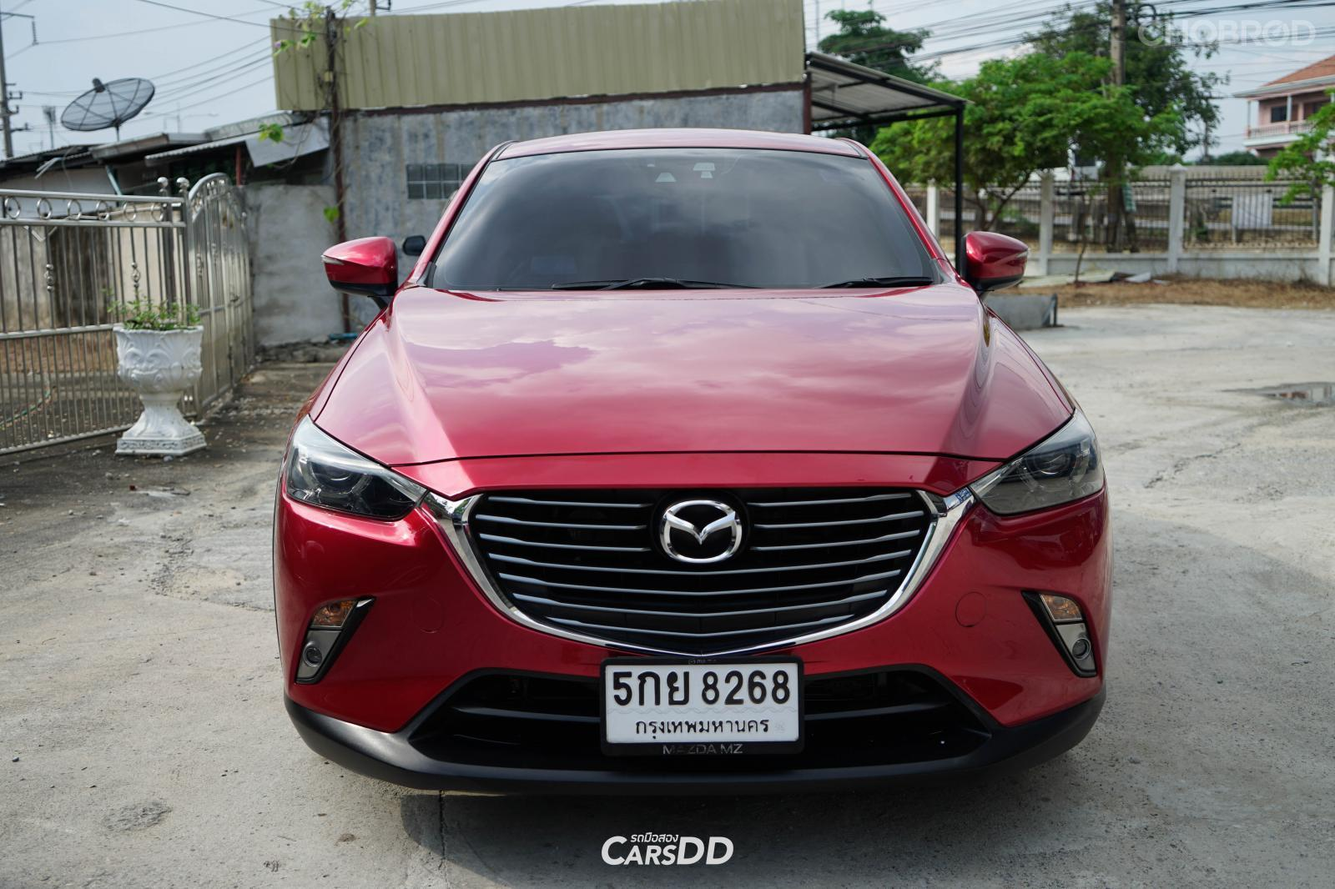license-plate: (596, 646, 805, 751)
